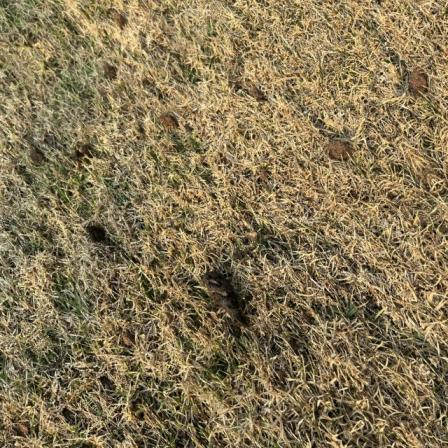dog-poop: (196, 268, 258, 339)
